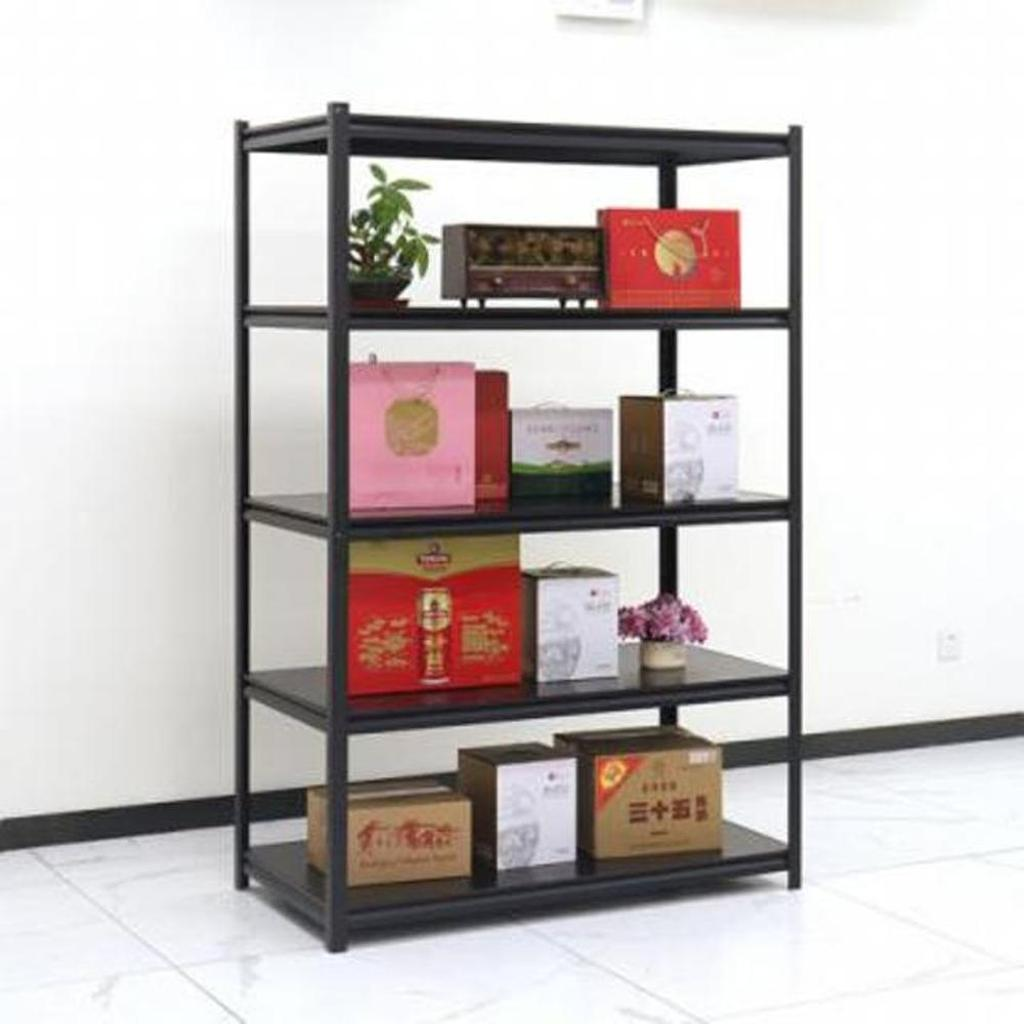lamp: (229, 99, 805, 957)
